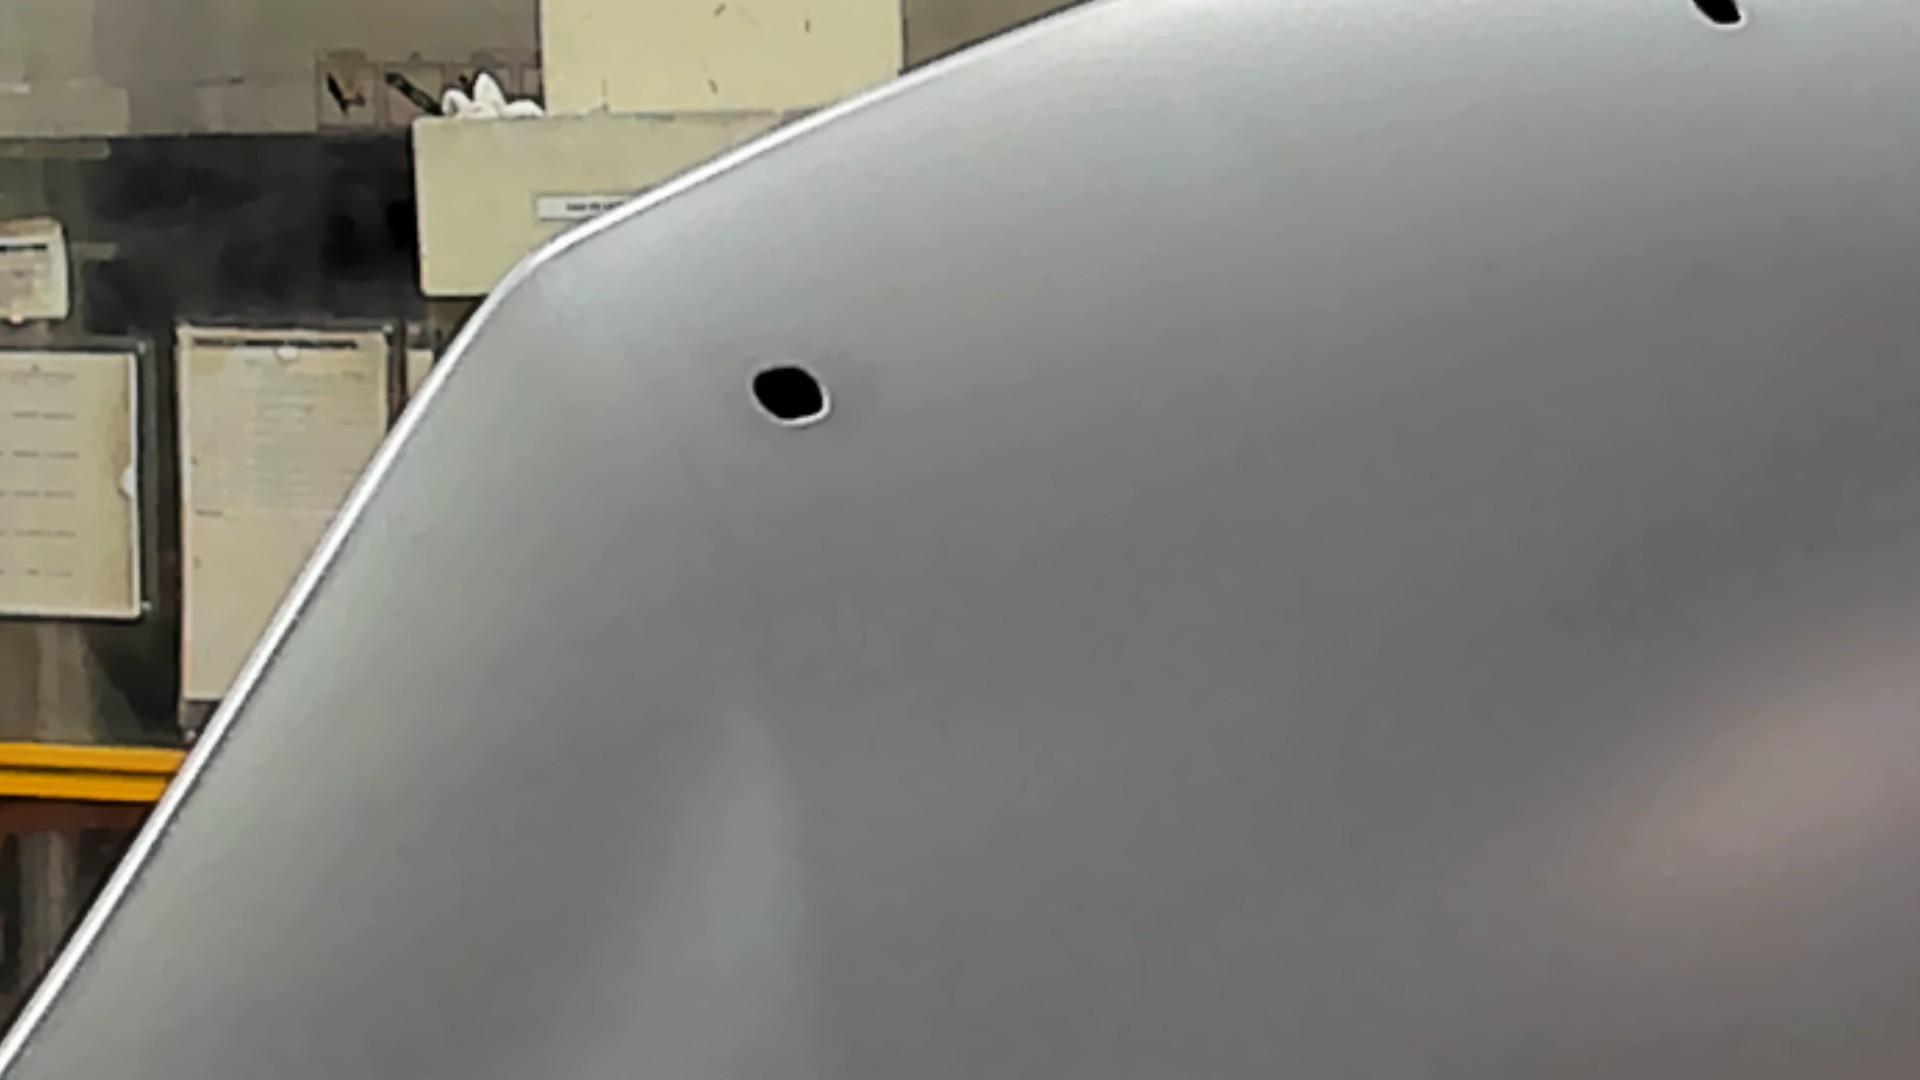amorfo: (742, 364, 837, 427), (1680, 1, 1755, 45)
capo: (923, 117, 1920, 1080)
